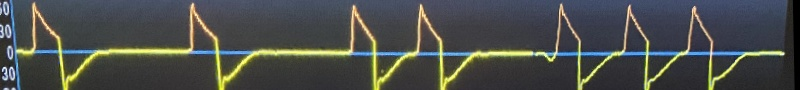normal_flow: (26, 0, 762, 90)
